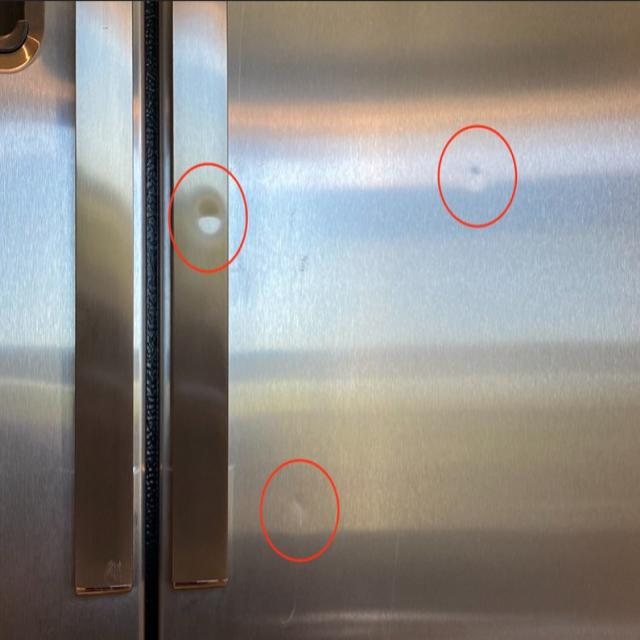dents: (192, 200, 237, 259), (286, 482, 320, 552), (462, 157, 490, 195)
